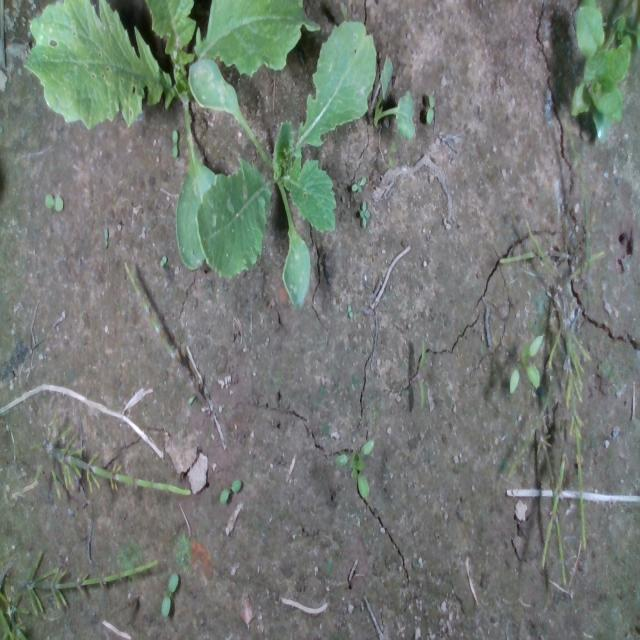weed: (217, 477, 243, 505), (419, 335, 427, 412)
